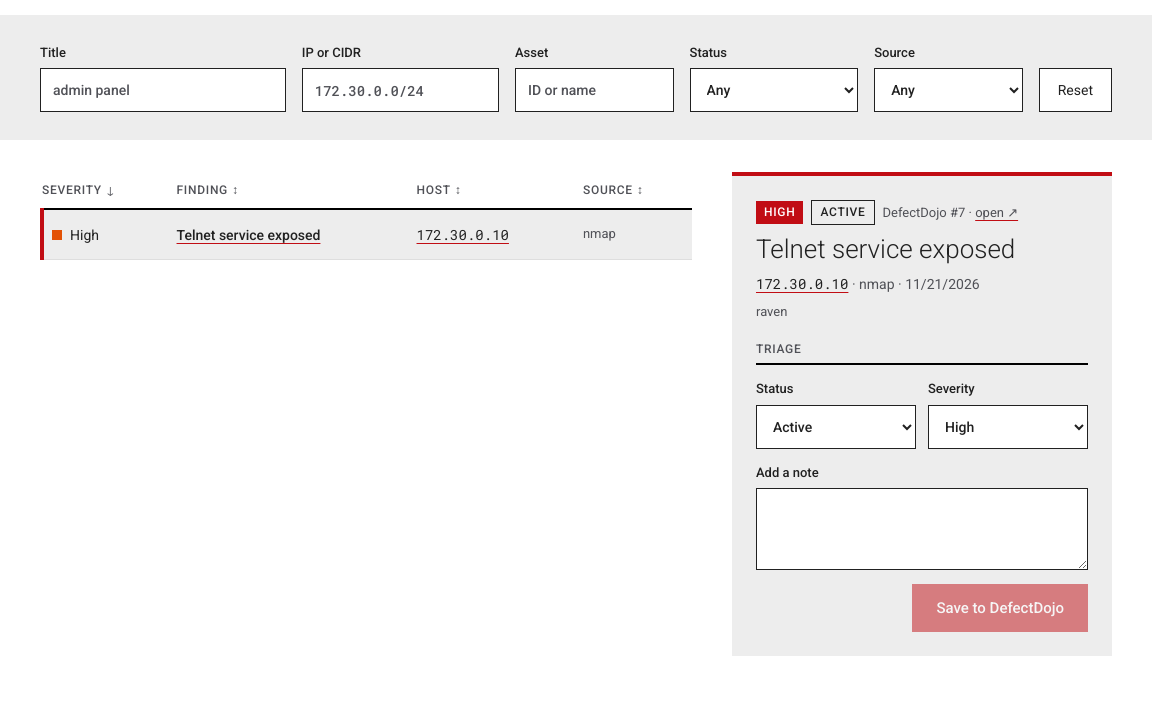
Findings page › saves triage and a note, then refetches
(page scrolled)
Select "False positive" in the dropdown labelled "Status" below "Triage": (836, 426) [756,404,916,448]
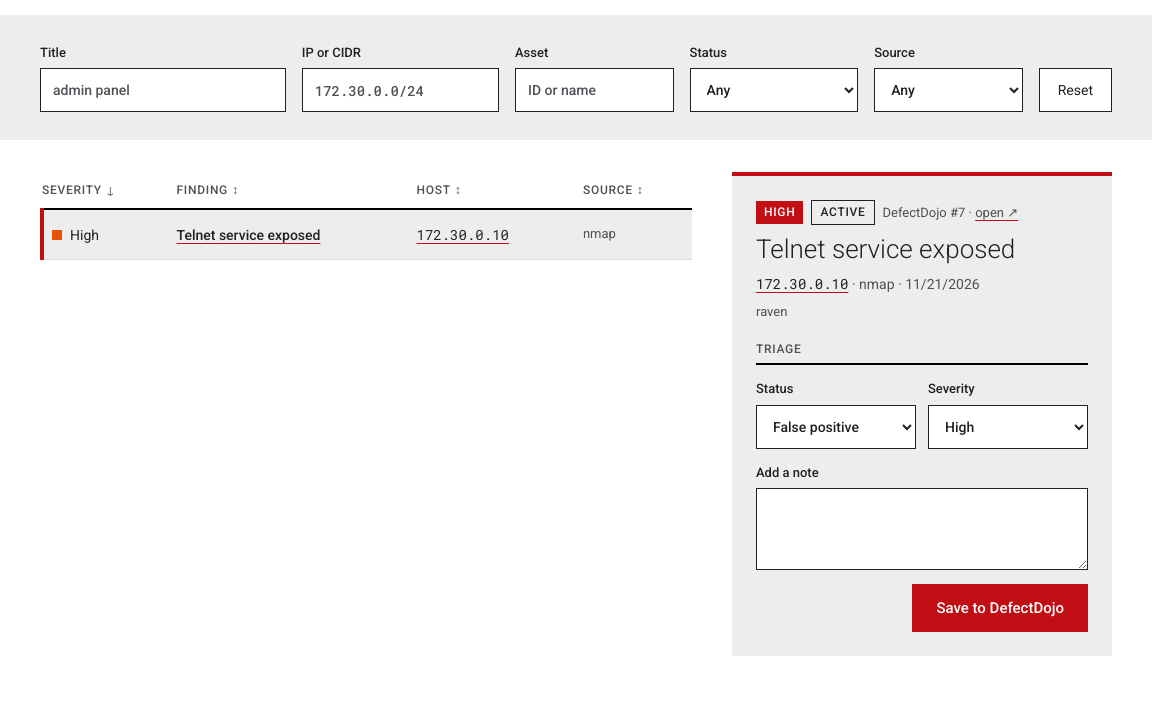
Select "Low" in the dropdown labelled "Severity": (1008, 426) [928,404,1088,448]
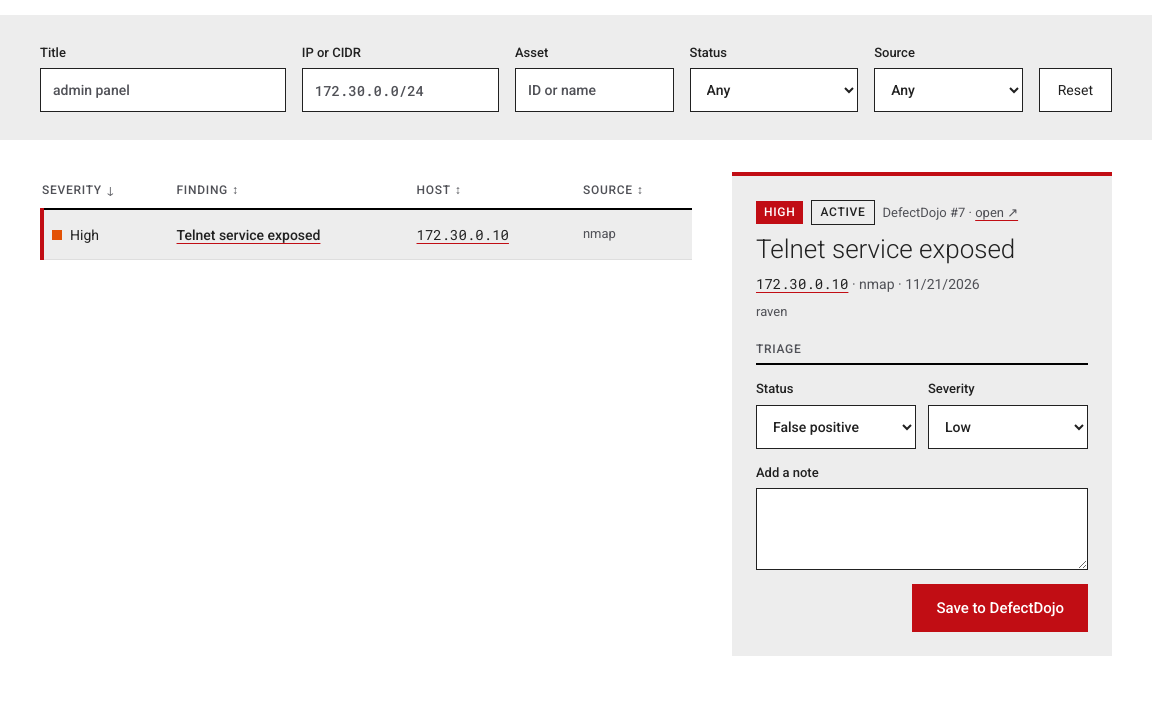
In the text box labelled "Add a note": (922, 529) [756,488,1088,570], type " checked by hand "
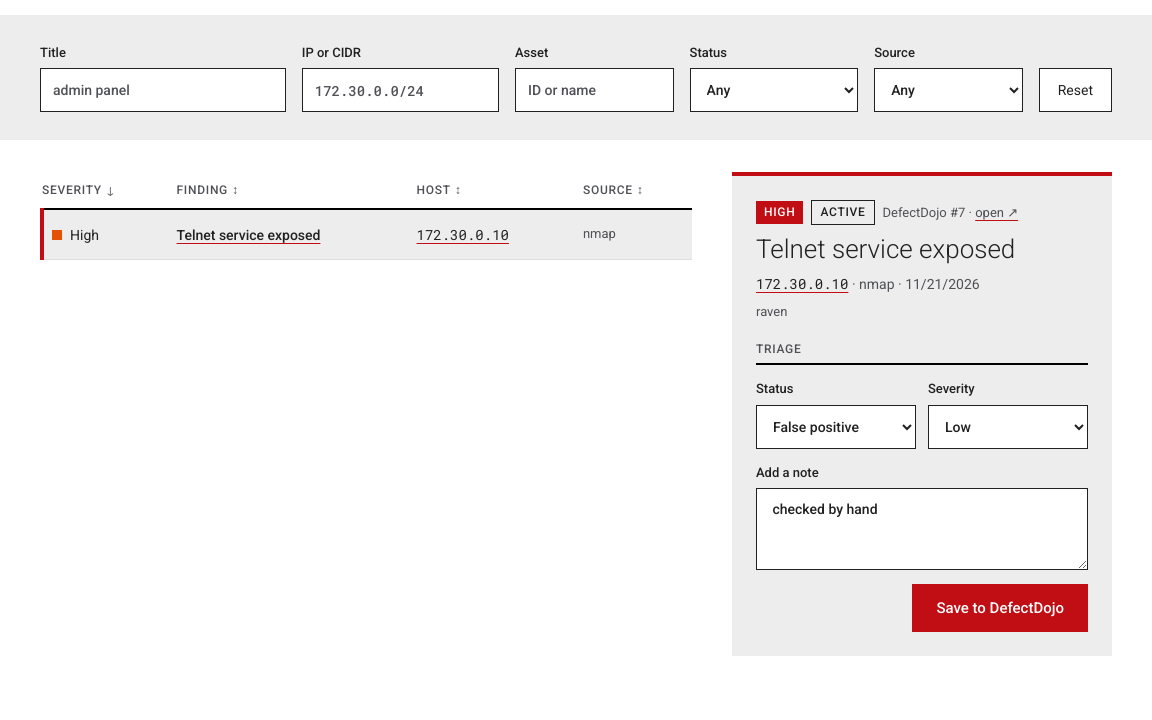
Click the button "Save to DefectDojo": (1000, 608) [912,584,1088,632]
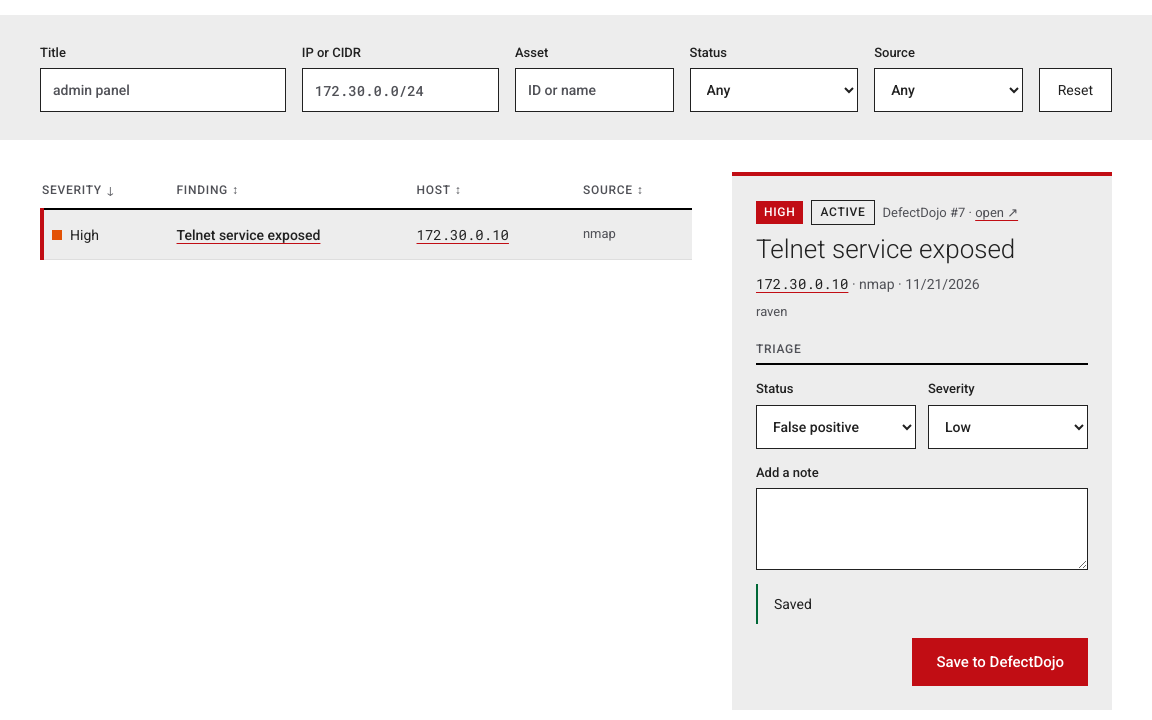
Expected: the message reads "Saved", [774,596,812,612]
